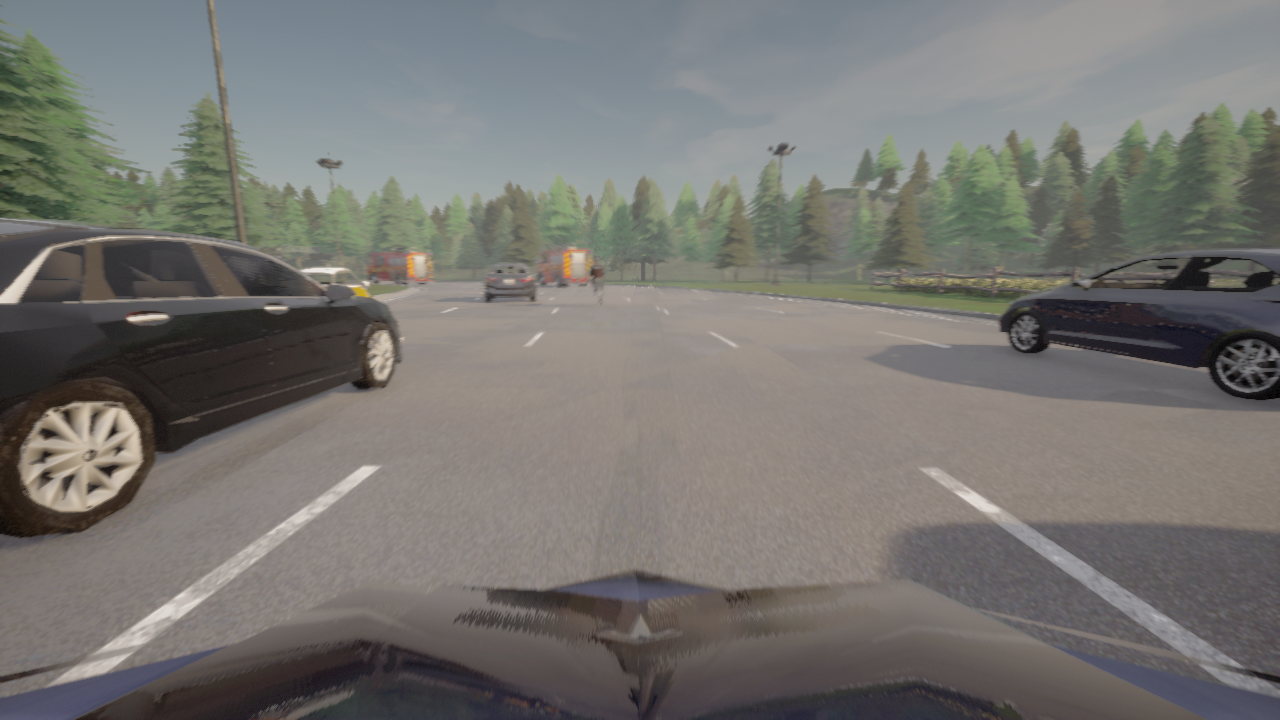cyclist: (0, 569, 1279, 719), (998, 248, 1279, 399), (365, 247, 433, 284), (535, 243, 593, 286), (300, 266, 370, 297), (484, 263, 535, 301), (594, 284, 602, 306), (484, 276, 486, 277)
